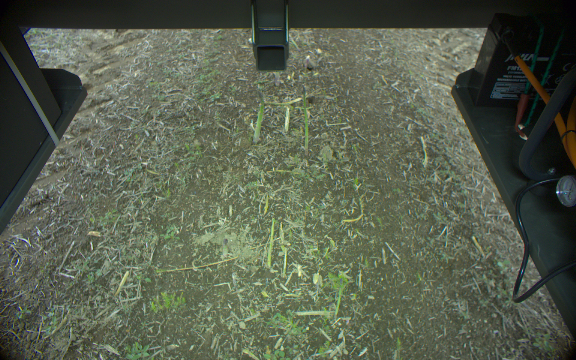aspa: (299, 87, 313, 157), (251, 95, 266, 145), (267, 216, 275, 268), (282, 106, 293, 132)
